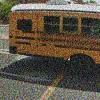buses: (8, 0, 100, 77)
